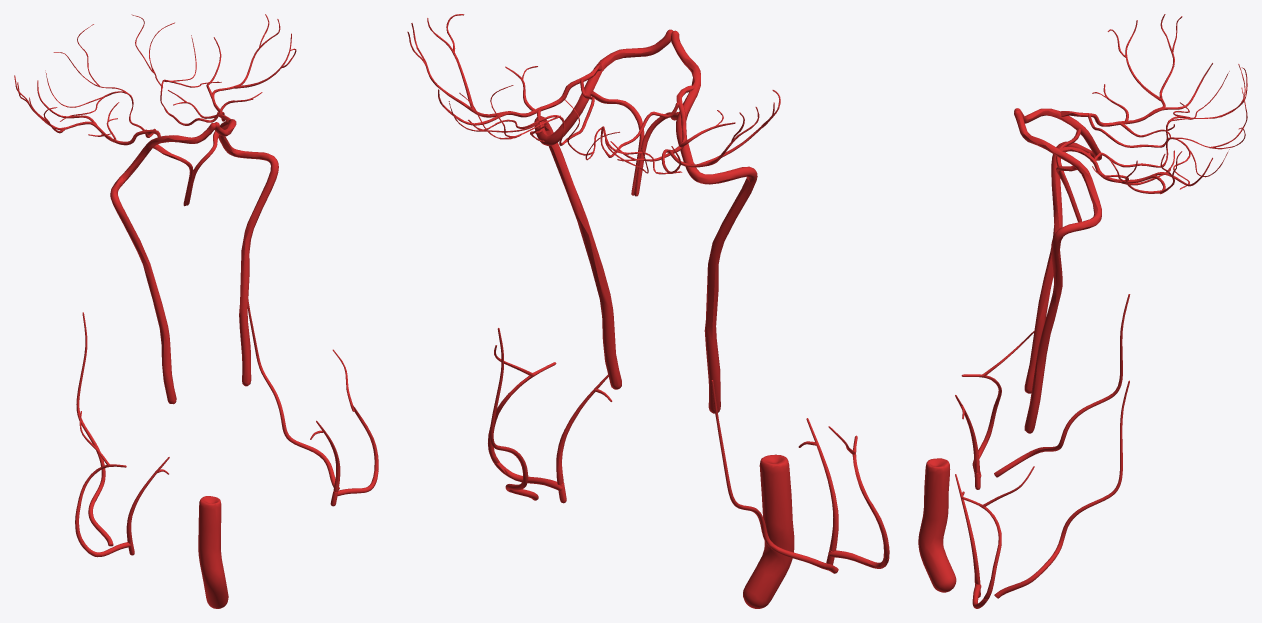
The model's file is arteries.neck.glb.
3 views of the same model, side by side, from view 1: azimuth 30°, elevation 25°; view 2: azimuth 150°, elevation 25°; view 3: azimuth 270°, elevation 25° (orthographic). The views are drawn at different scales.
Parts seen in each view (by area): view 1: right_vertebral_artery, left_vertebral_artery, right_common_carotid_artery, left_posterior_inferior_cerebellar_artery, right_posterior_inferior_cerebellar_artery, right_deep_cervical_artery, left_deep_cervical_artery, right_superficial_cervical_artery; view 2: left_vertebral_artery, right_vertebral_artery, right_common_carotid_artery, left_posterior_inferior_cerebellar_artery, right_posterior_inferior_cerebellar_artery, right_deep_cervical_artery, left_deep_cervical_artery, right_inferior_thyroid_artery, right_superficial_cervical_artery, left_inferior_thyroid_artery, left_superficial_cervical_artery; view 3: left_vertebral_artery, right_common_carotid_artery, right_vertebral_artery, right_posterior_inferior_cerebellar_artery, left_posterior_inferior_cerebellar_artery, left_deep_cervical_artery, right_deep_cervical_artery, left_superficial_cervical_artery, right_superficial_cervical_artery, left_inferior_thyroid_artery.
Part boxes in pixels (x1,y1,x2,y2): right_vertebral_artery: [110, 123, 215, 404]; left_vertebral_artery: [214, 119, 278, 386]; right_common_carotid_artery: [198, 496, 228, 608]; left_posterior_inferior_cerebellar_artery: [131, 14, 296, 125]; right_posterior_inferior_cerebellar_artery: [14, 24, 160, 145]; right_deep_cervical_artery: [76, 312, 113, 546]; left_deep_cervical_artery: [247, 299, 339, 489]; right_superficial_cervical_artery: [75, 411, 126, 543]; left_vertebral_artery: [534, 29, 672, 389]; right_vertebral_artery: [671, 30, 757, 413]; right_common_carotid_artery: [743, 454, 794, 608]; left_posterior_inferior_cerebellar_artery: [407, 14, 602, 145]; right_posterior_inferior_cerebellar_artery: [562, 85, 780, 174]; right_deep_cervical_artery: [711, 380, 838, 573]; left_deep_cervical_artery: [489, 328, 538, 500]; right_inferior_thyroid_artery: [798, 418, 838, 551]; right_superficial_cervical_artery: [828, 426, 889, 558]; left_inferior_thyroid_artery: [556, 375, 612, 484]; left_superficial_cervical_artery: [488, 345, 556, 463]; left_vertebral_artery: [1014, 110, 1101, 433]; right_common_carotid_artery: [918, 458, 956, 592]; right_vertebral_artery: [1014, 108, 1101, 393]; right_posterior_inferior_cerebellar_artery: [1059, 14, 1247, 147]; left_posterior_inferior_cerebellar_artery: [1059, 87, 1247, 194]; left_deep_cervical_artery: [994, 380, 1129, 598]; right_deep_cervical_artery: [994, 294, 1130, 477]; left_superficial_cervical_artery: [961, 466, 1034, 599]; right_superficial_cervical_artery: [961, 331, 1034, 441]; left_inferior_thyroid_artery: [955, 474, 980, 584].
Size of the model in its own units: 0.1233 by 0.1879 by 0.1056.
